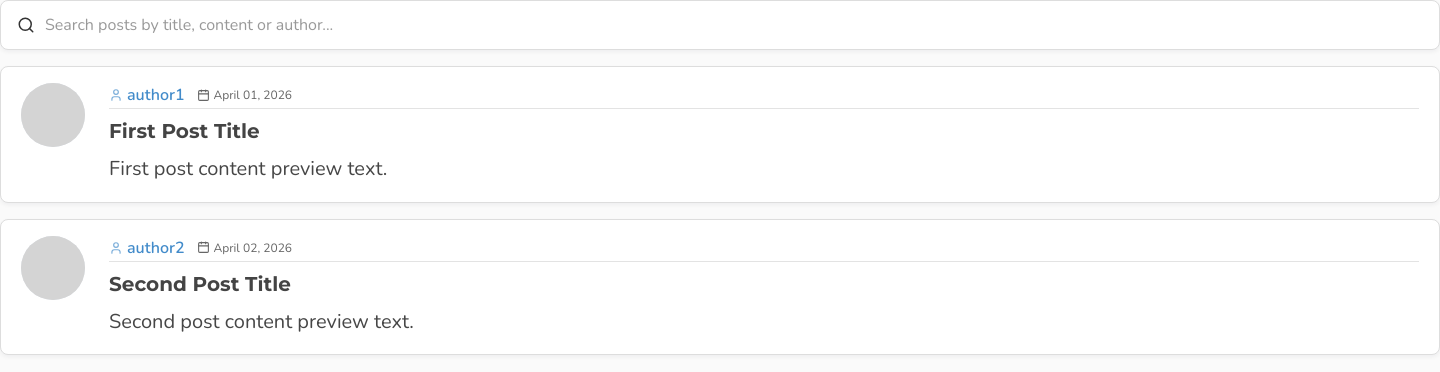
it: app/page (HomePage) › filters posts by title, content, and author in search box, and clears search
The width and height of the screenshot is (1440, 372).
expect the link "First Post Title" is shown: met, box [109,119,260,143]
expect the link "Second Post Title" is shown: met, box [109,272,291,296]
Note: Search by author
Type "author2" into the field with placeholder "Search posts by title, content or author..." at (736, 25), box [45,13,1427,37]
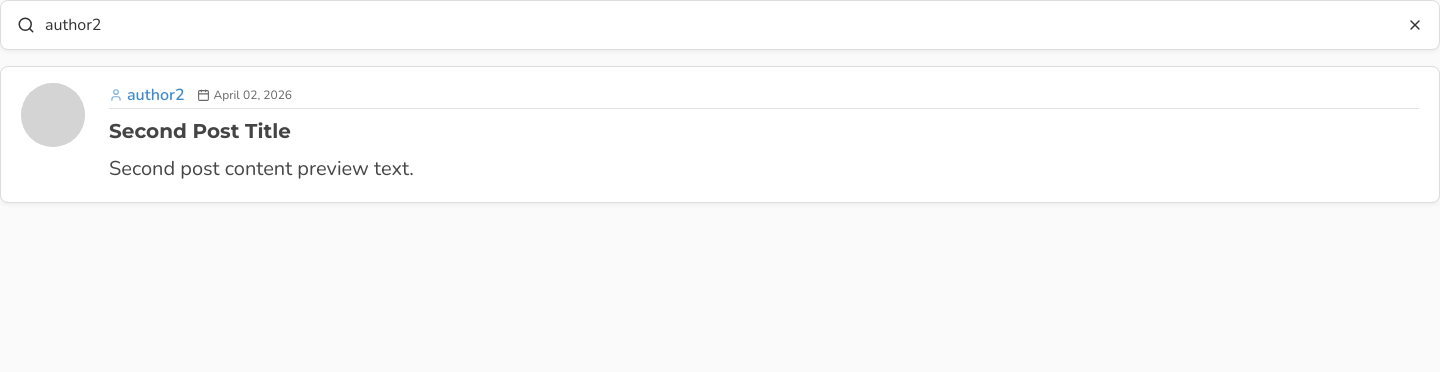
expect the link "Second Post Title" is shown: met, box [109,119,291,143]
expect the link "First Post Title" is gone: met
Note: Clear search using clear button
Click the button named "Clear search" at (1415, 25), box [1403,13,1427,37]
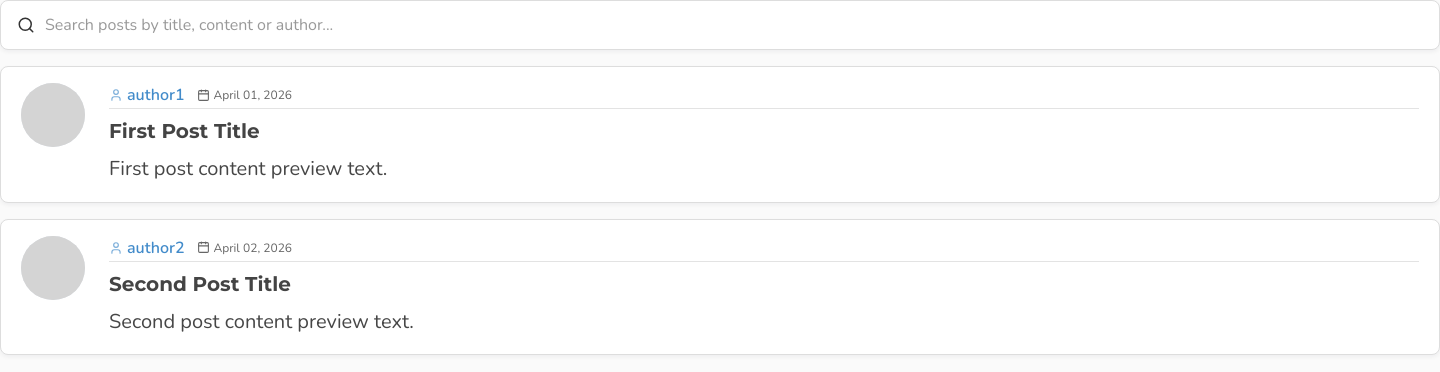
expect the link "Second Post Title" is shown: met, box [109,272,291,296]
expect the link "First Post Title" is shown: met, box [109,119,260,143]
